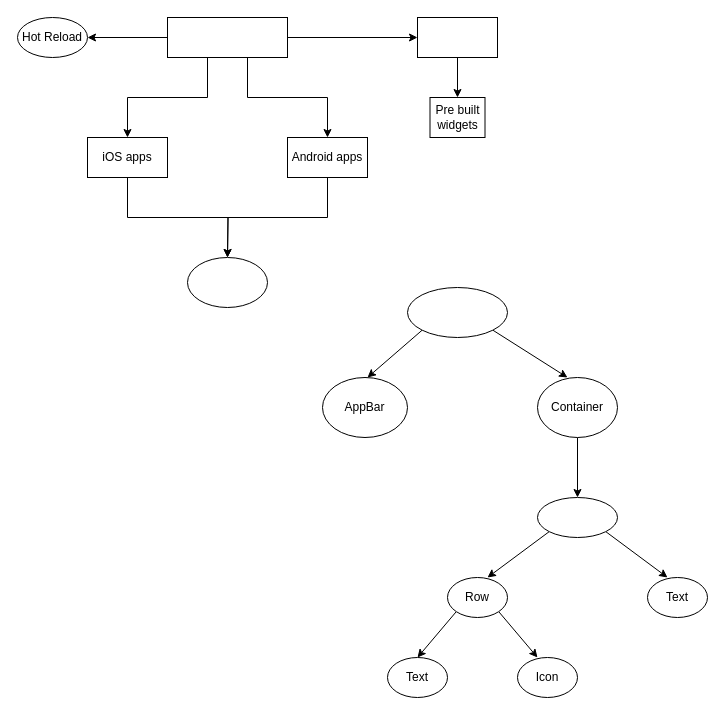
Image size: 725x715. Some labels were removed from this diagram. Each missing label, with the centre of its shape:
Coloumn: (x=577, y=517)
Flutter: (x=227, y=37)
One code base in Dart: (x=227, y=282)
Scaffold: (x=457, y=312)
UI Toolkit: (x=457, y=37)
